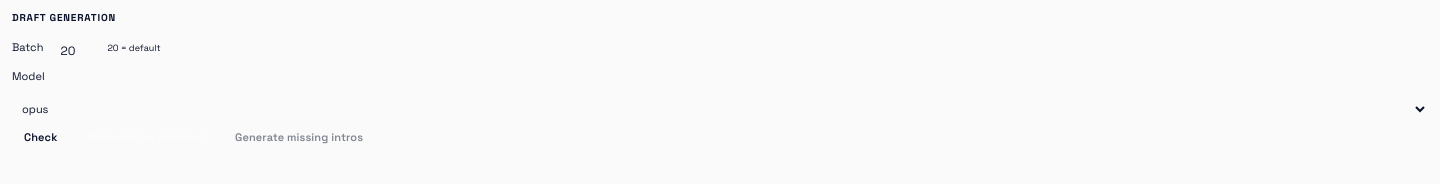
Scenario: CampaignDraftGenerateCard › shows error on failure
This screenshot has width=1440, height=184.
Click the button "Check": (41, 137) [12,126,69,148]
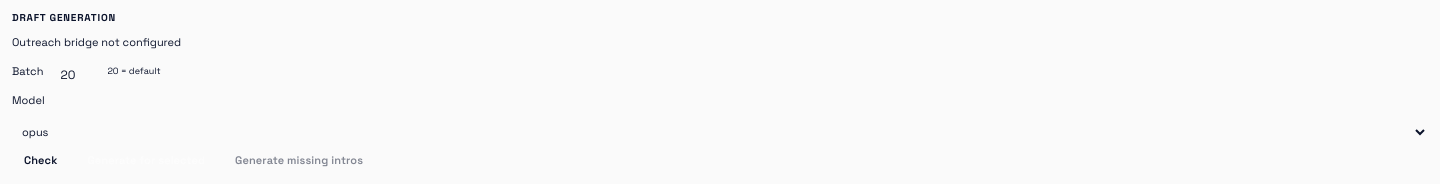
Expected: the text "Outreach bridge not configured" is shown, [12,35,181,49]
